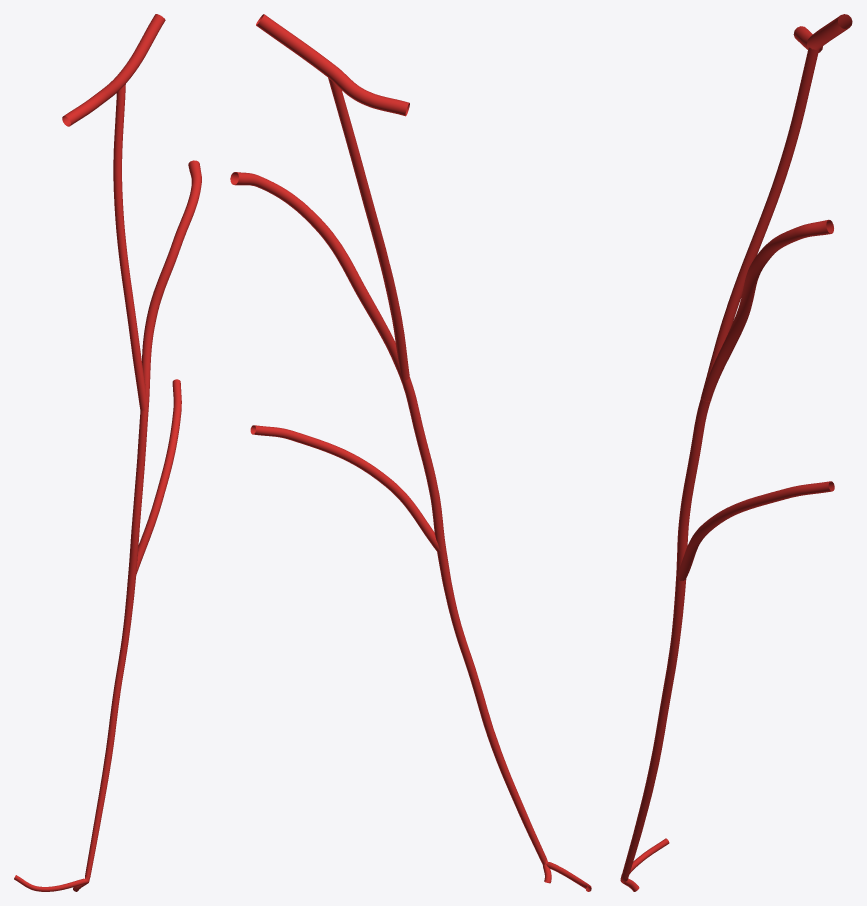
Rendered from circulatorio-median-cubital-vein-r.glb.
The picture shows the model from 3 angles, left to right: view 1: azimuth 30°, elevation 25°; view 2: azimuth 150°, elevation 25°; view 3: azimuth 270°, elevation 25°; orthographic projection. The views are drawn at different scales.
Visible parts, largest first — view 1: Median antebrachial vein.r, Median cubital vein.r; view 2: Median antebrachial vein.r, Median cubital vein.r; view 3: Median antebrachial vein.r, Median cubital vein.r.
Part boxes in pixels (x1,y1,x2,y2): Median antebrachial vein.r: (14,160,201,891); Median cubital vein.r: (62,14,165,410); Median antebrachial vein.r: (230,172,591,891); Median cubital vein.r: (256,14,409,380); Median antebrachial vein.r: (620,219,834,891); Median cubital vein.r: (701,14,852,401).
Size of the model in its own units: 0.0866 by 0.2572 by 0.0553.
